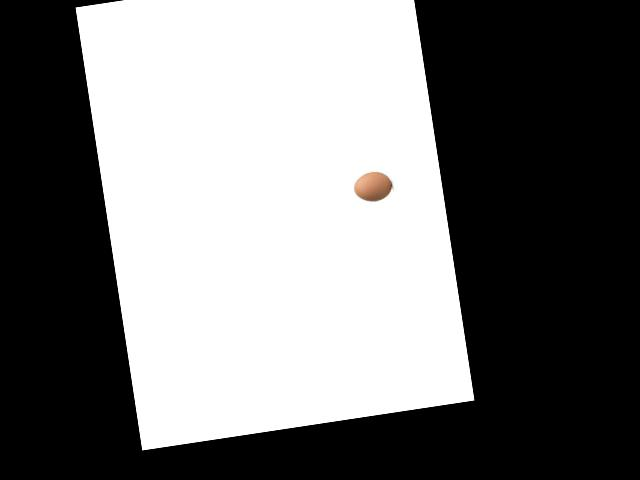egg: (352, 170, 394, 204)
